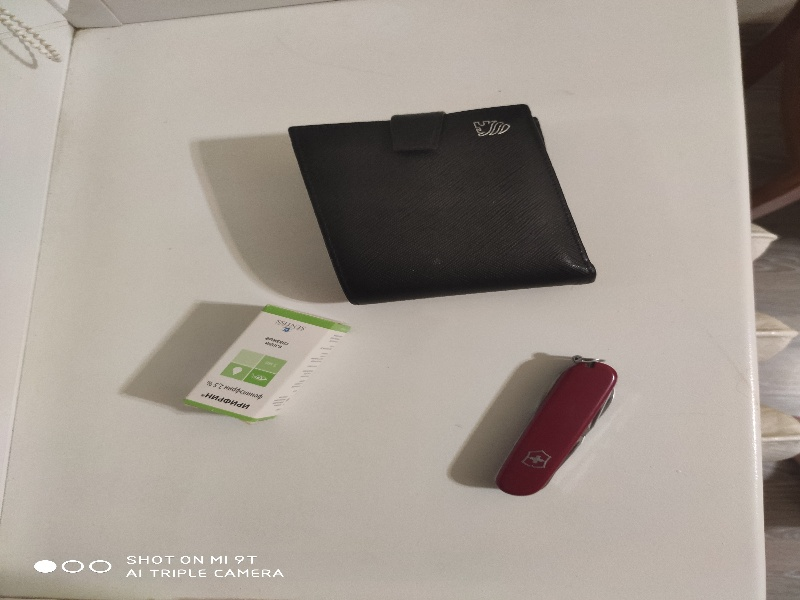ifrin: (171, 295, 355, 421)
knife: (491, 351, 625, 508)
wallet: (281, 98, 605, 305)
